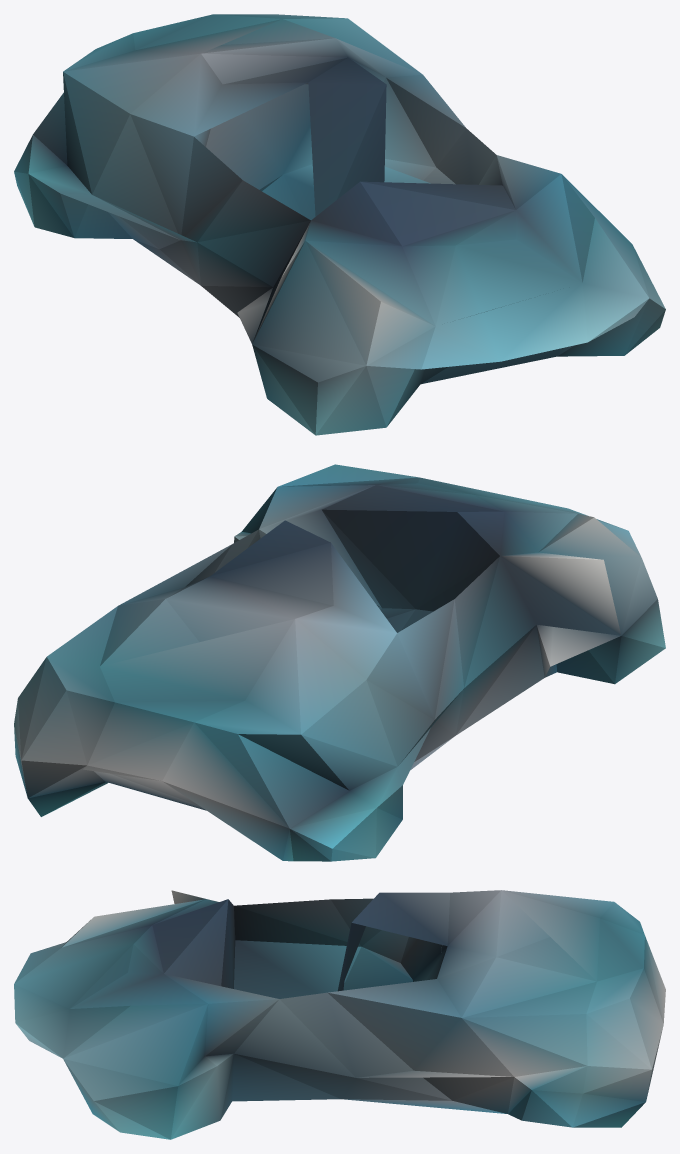
The model's file is hover-car.glb.
3 renders of one model, top to bottom at view 1: azimuth 30°, elevation 25°; view 2: azimuth 150°, elevation 25°; view 3: azimuth 270°, elevation 25°, orthographic. The views are drawn at different scales.
Parts seen in each view (by area): view 1: hover-car-far; view 2: hover-car-far; view 3: hover-car-far.
Part boxes in pixels (x1=…): hover-car-far: x1=14, y1=14, x2=665, y2=435; hover-car-far: x1=14, y1=464, x2=665, y2=861; hover-car-far: x1=14, y1=890, x2=665, y2=1139.
Bounding box in the file's own units: 3.08 × 1.59 × 5.37.
